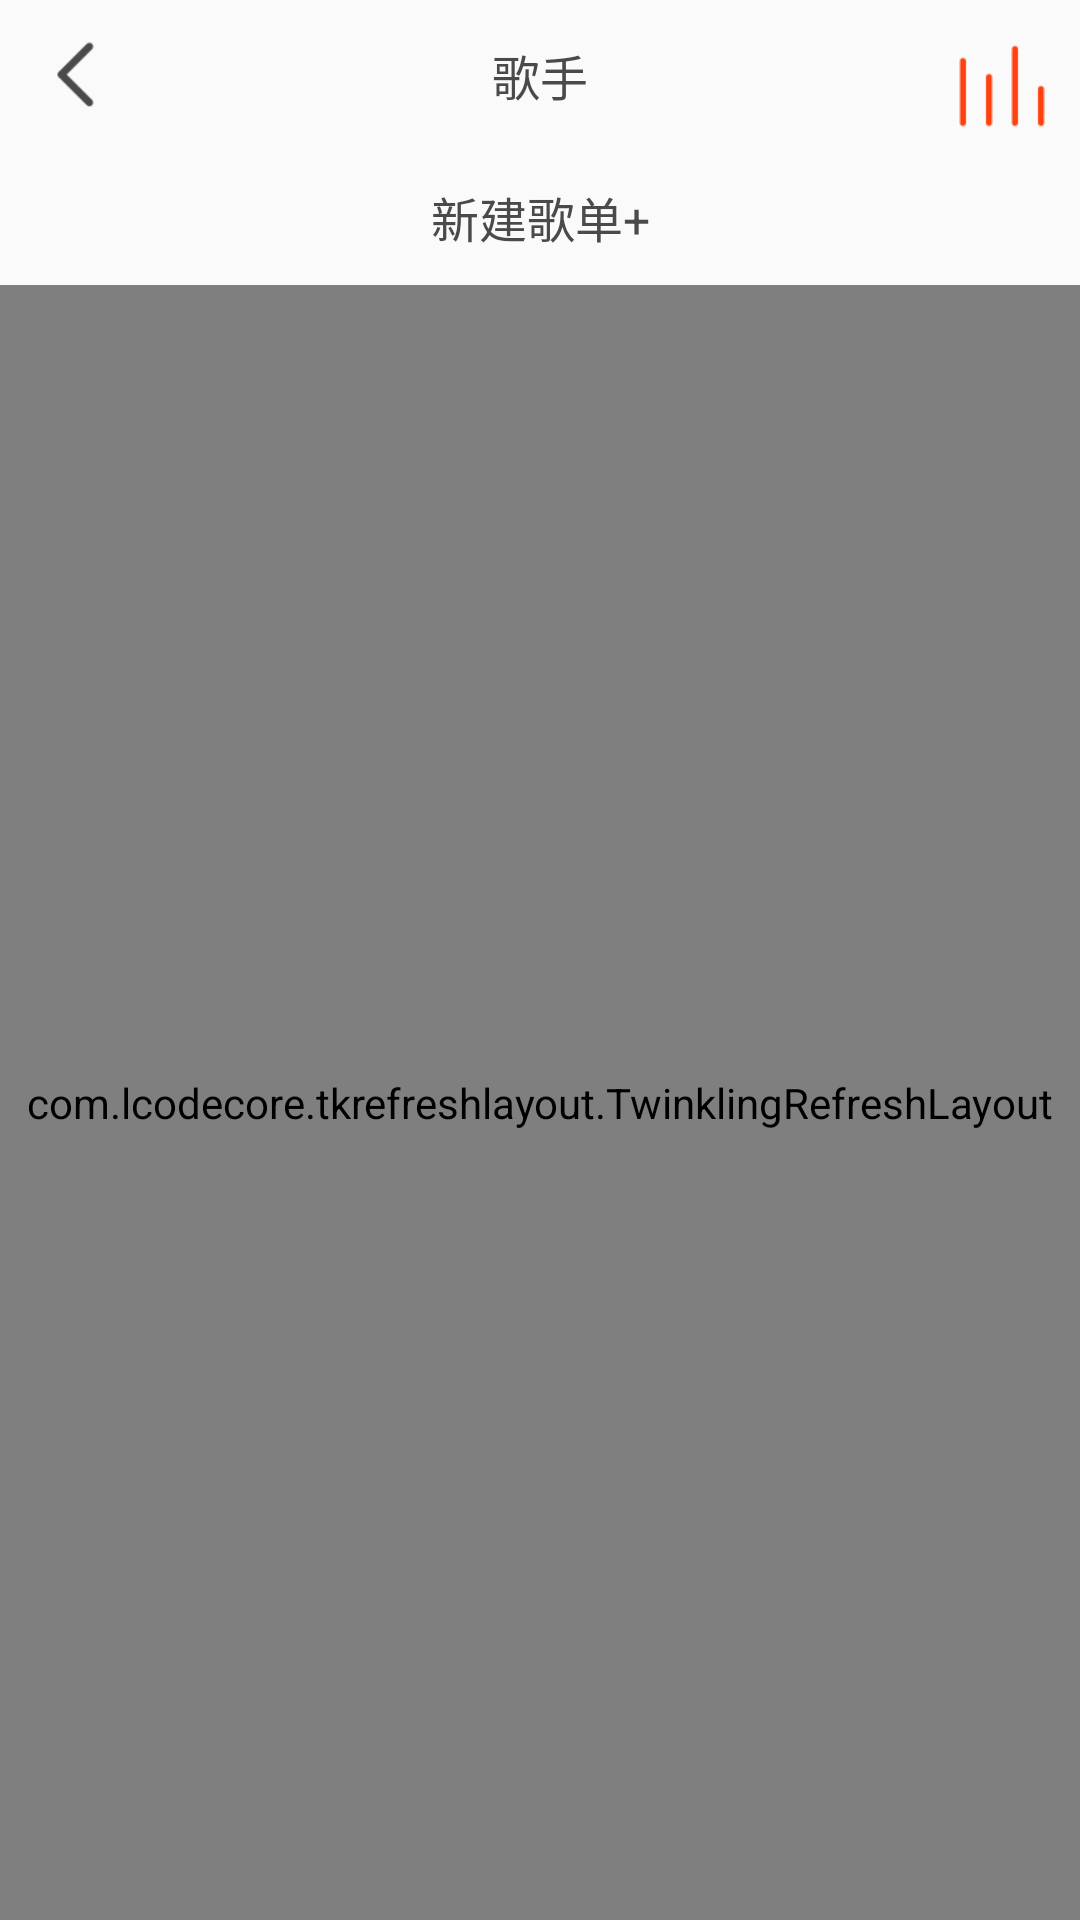

Screen size 1080×1920. Icon name, then its box in pixels as [x1,y1,x2,y2]:
equalizer: [959,45,1045,127]
lisong toleft: [57,42,94,107]
